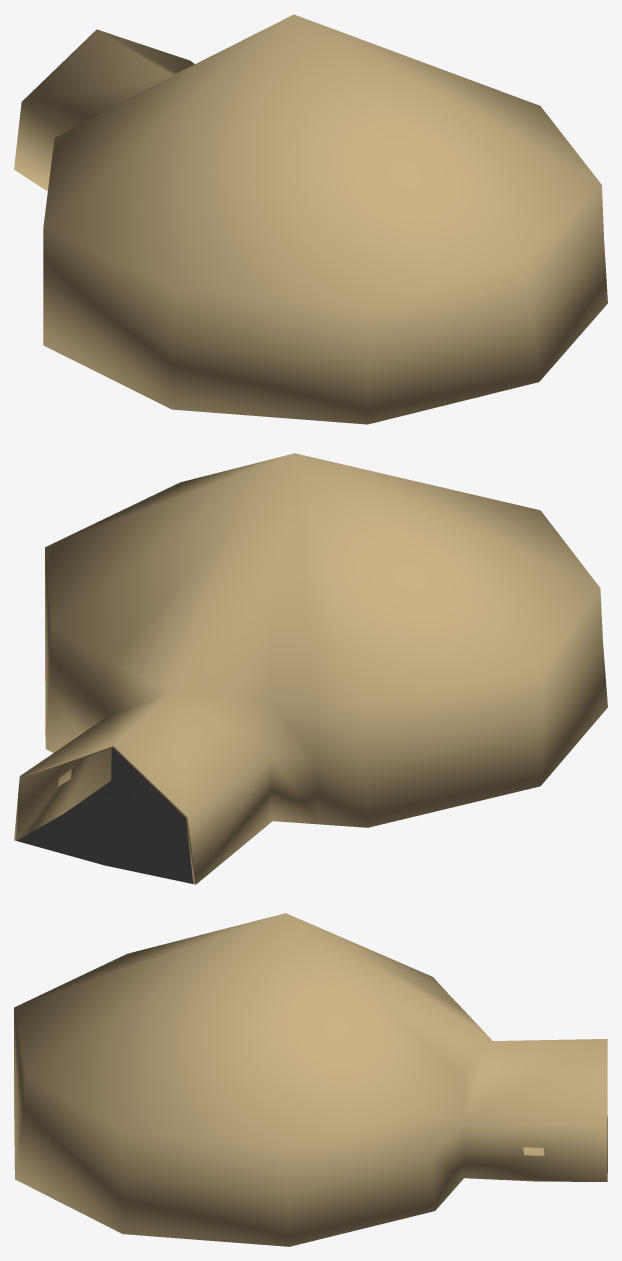
The model's file is Tent.glb.
The picture shows the model from 3 angles, top to bottom: view 1: azimuth 30°, elevation 25°; view 2: azimuth 150°, elevation 25°; view 3: azimuth 270°, elevation 25°; orthographic projection. The views are drawn at different scales.
Visible parts, largest first — view 1: Circle; view 2: Circle; view 3: Circle.
Part boxes in pixels (box(x1,y1,x2,y2)): Circle: box(14, 14, 607, 424); Circle: box(14, 453, 607, 884); Circle: box(14, 913, 607, 1246).
Size of the model in its own units: 10.69 by 5.9 by 13.04.
1 material, 1 textured.
